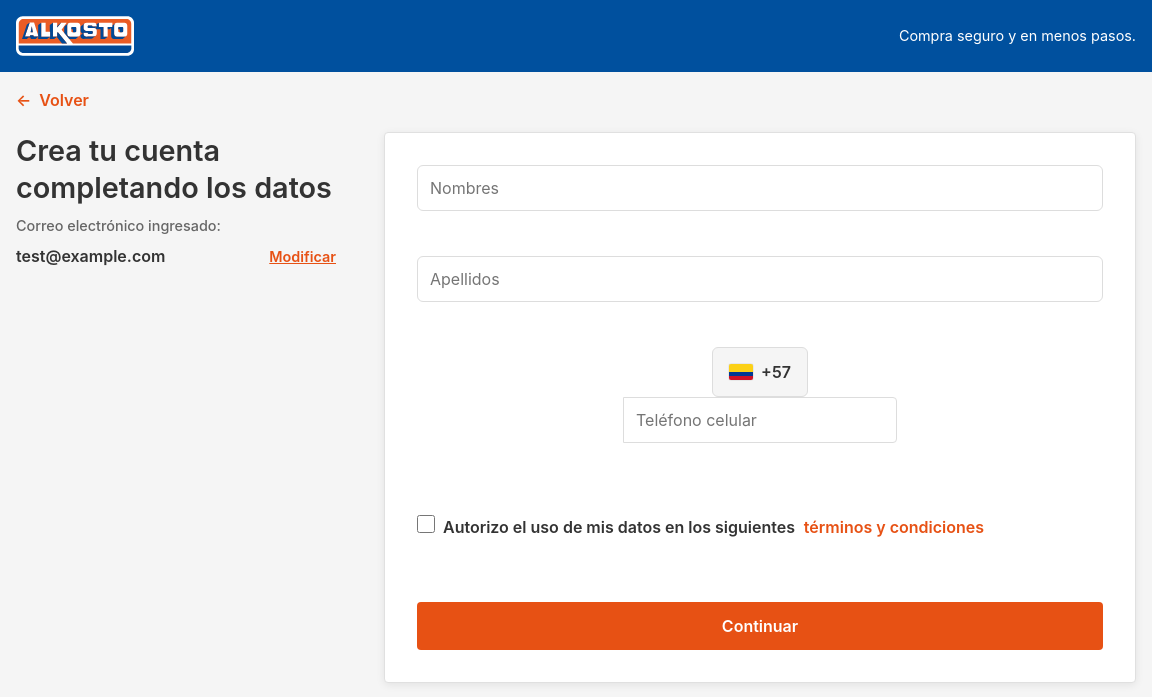
Test: RF01 - REGISTRAR USUARIO - Pruebas Unitarias Completas › 3. Validaciones - Pruebas de Caja Negra › 3.7 Validación de términos y condiciones no aceptados
This screenshot has width=1152, height=697.
In the field with placeholder "Nombres": (760, 188) [417, 165, 1103, 211], type "Juan"
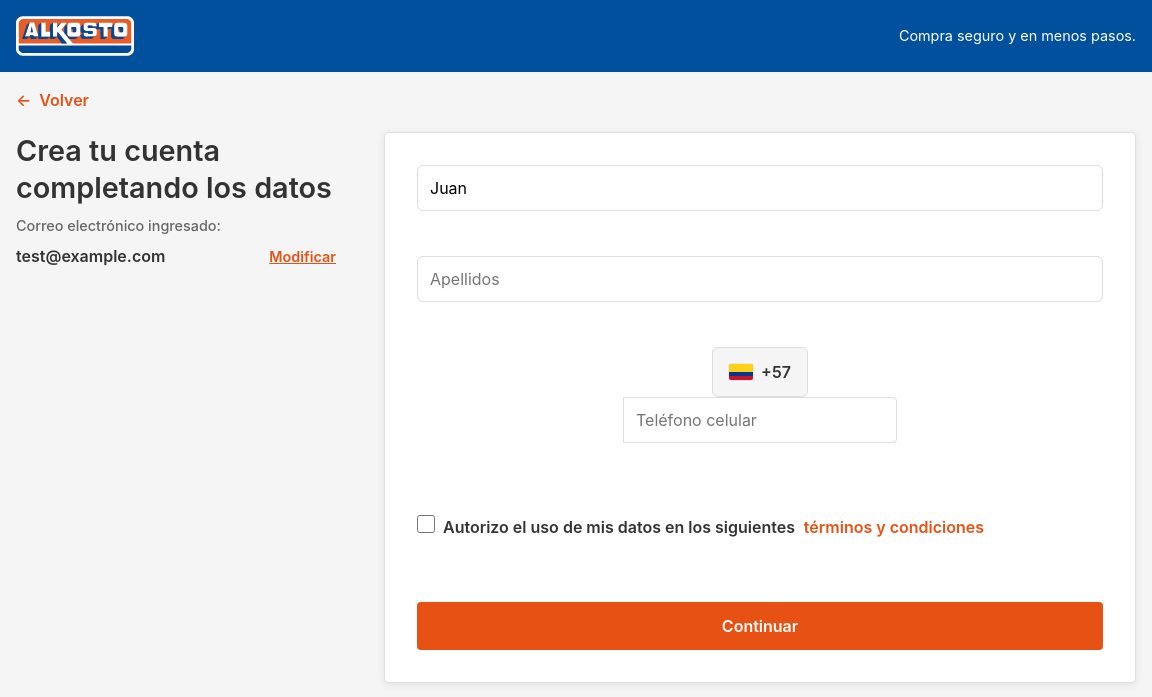
In the field with placeholder "Apellidos": (760, 279) [417, 256, 1103, 302], type "Pérez"
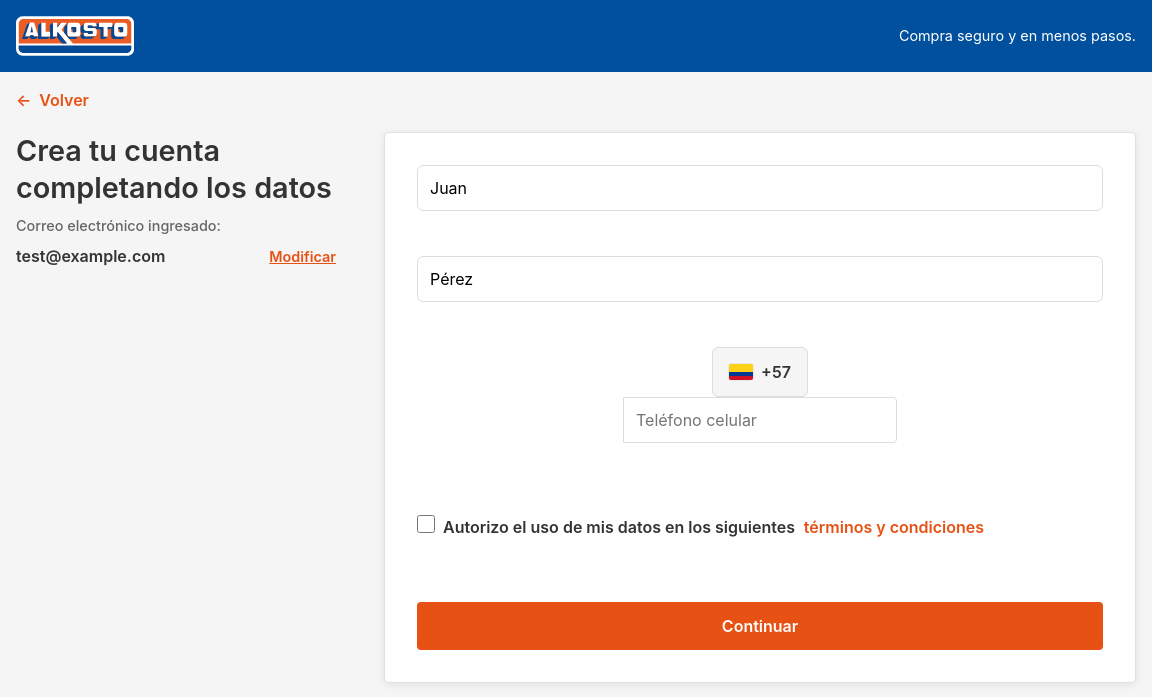
In the field with placeholder "Teléfono celular": (760, 420) [623, 397, 897, 443], type "3001234567"
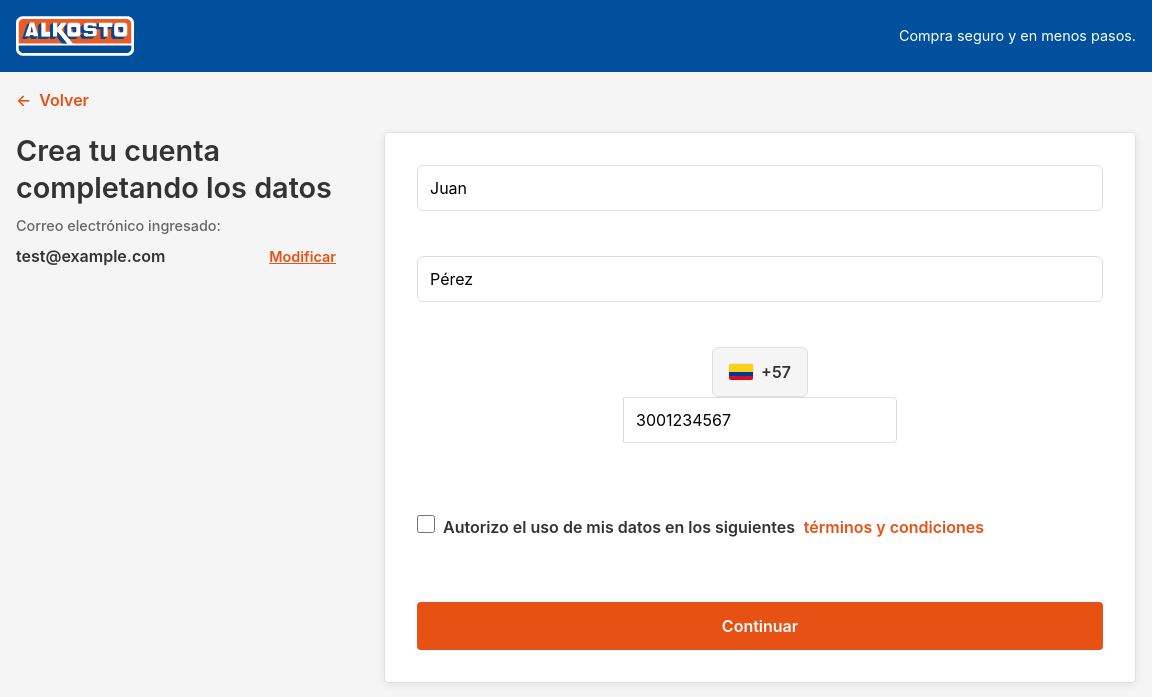
Click the button "Continuar": (760, 626) [417, 602, 1103, 650]
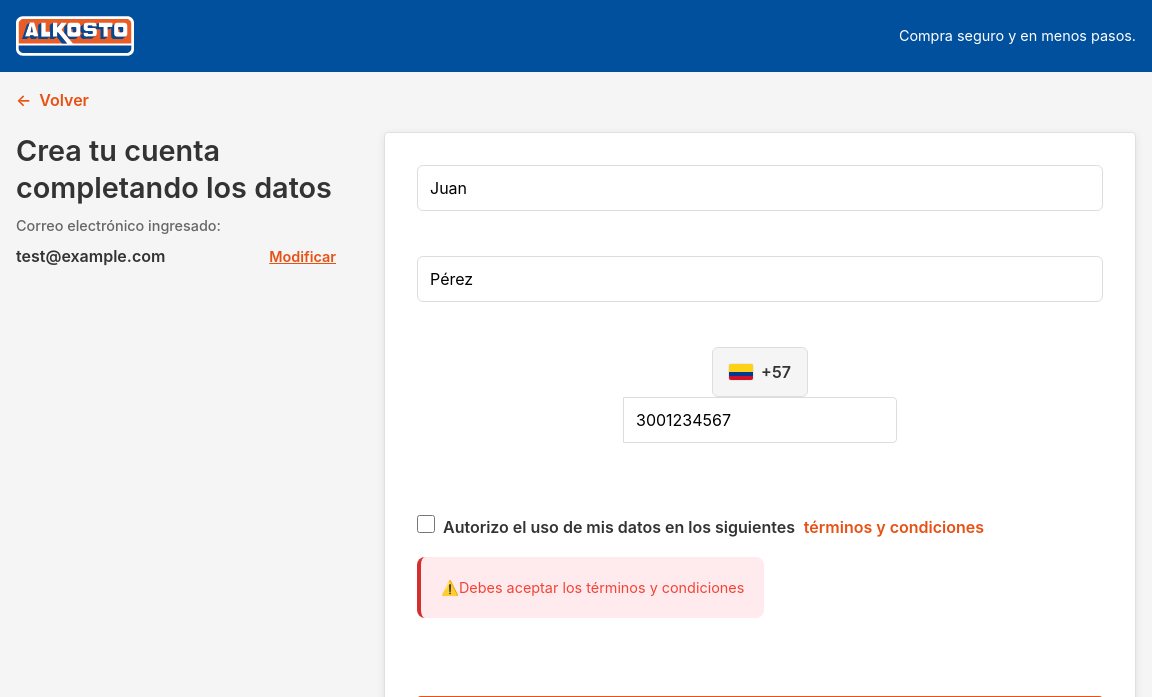
Check: the text "Debes aceptar los términos y condiciones" is shown, box [417, 557, 764, 618]
